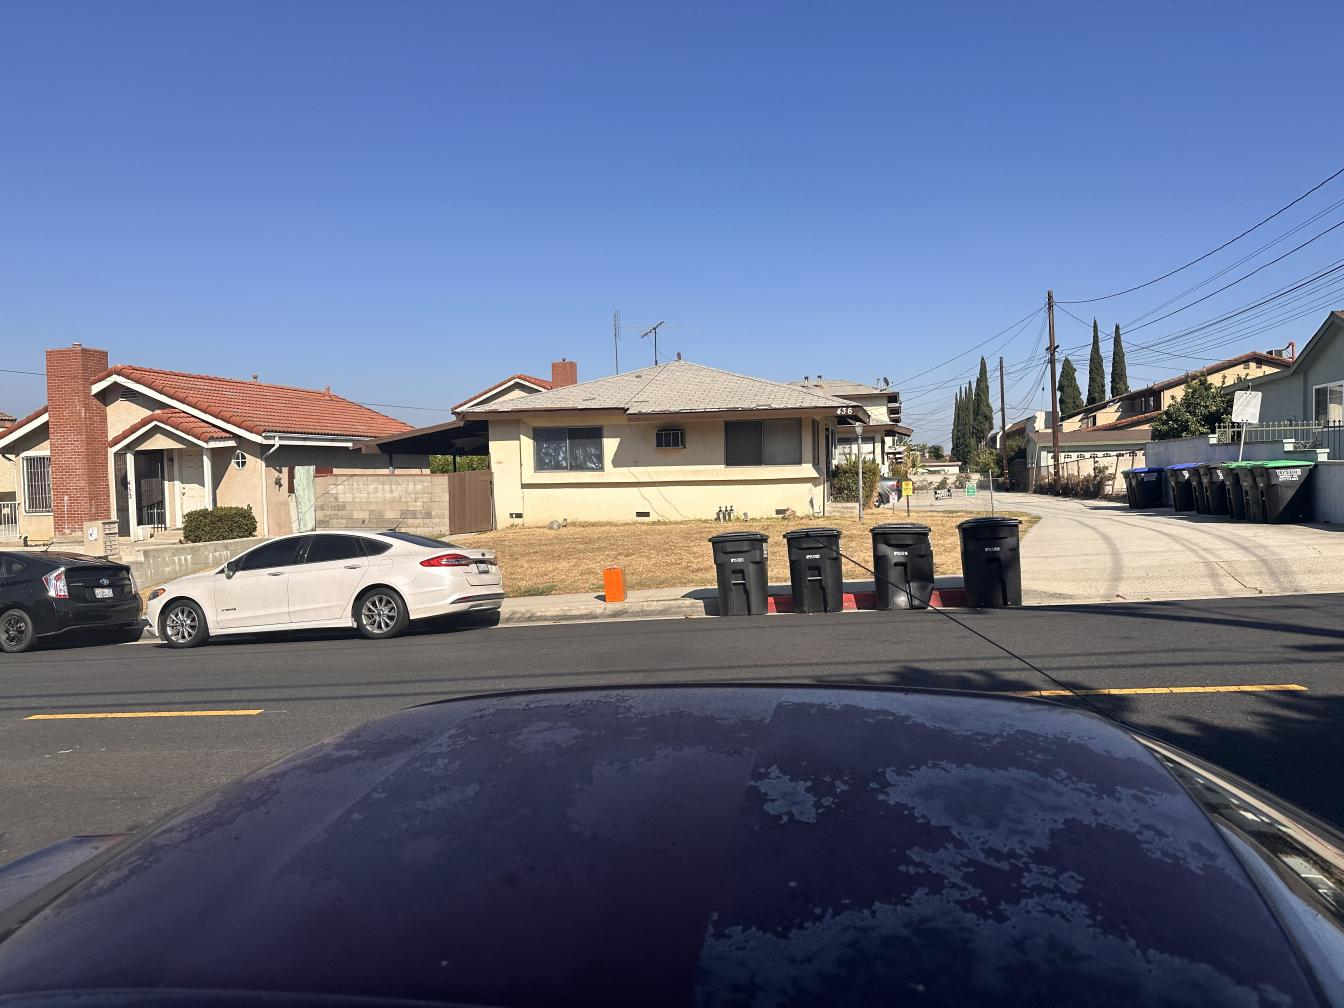curbs-laRr: (512, 600, 707, 622)
orange box: (600, 566, 628, 602)
